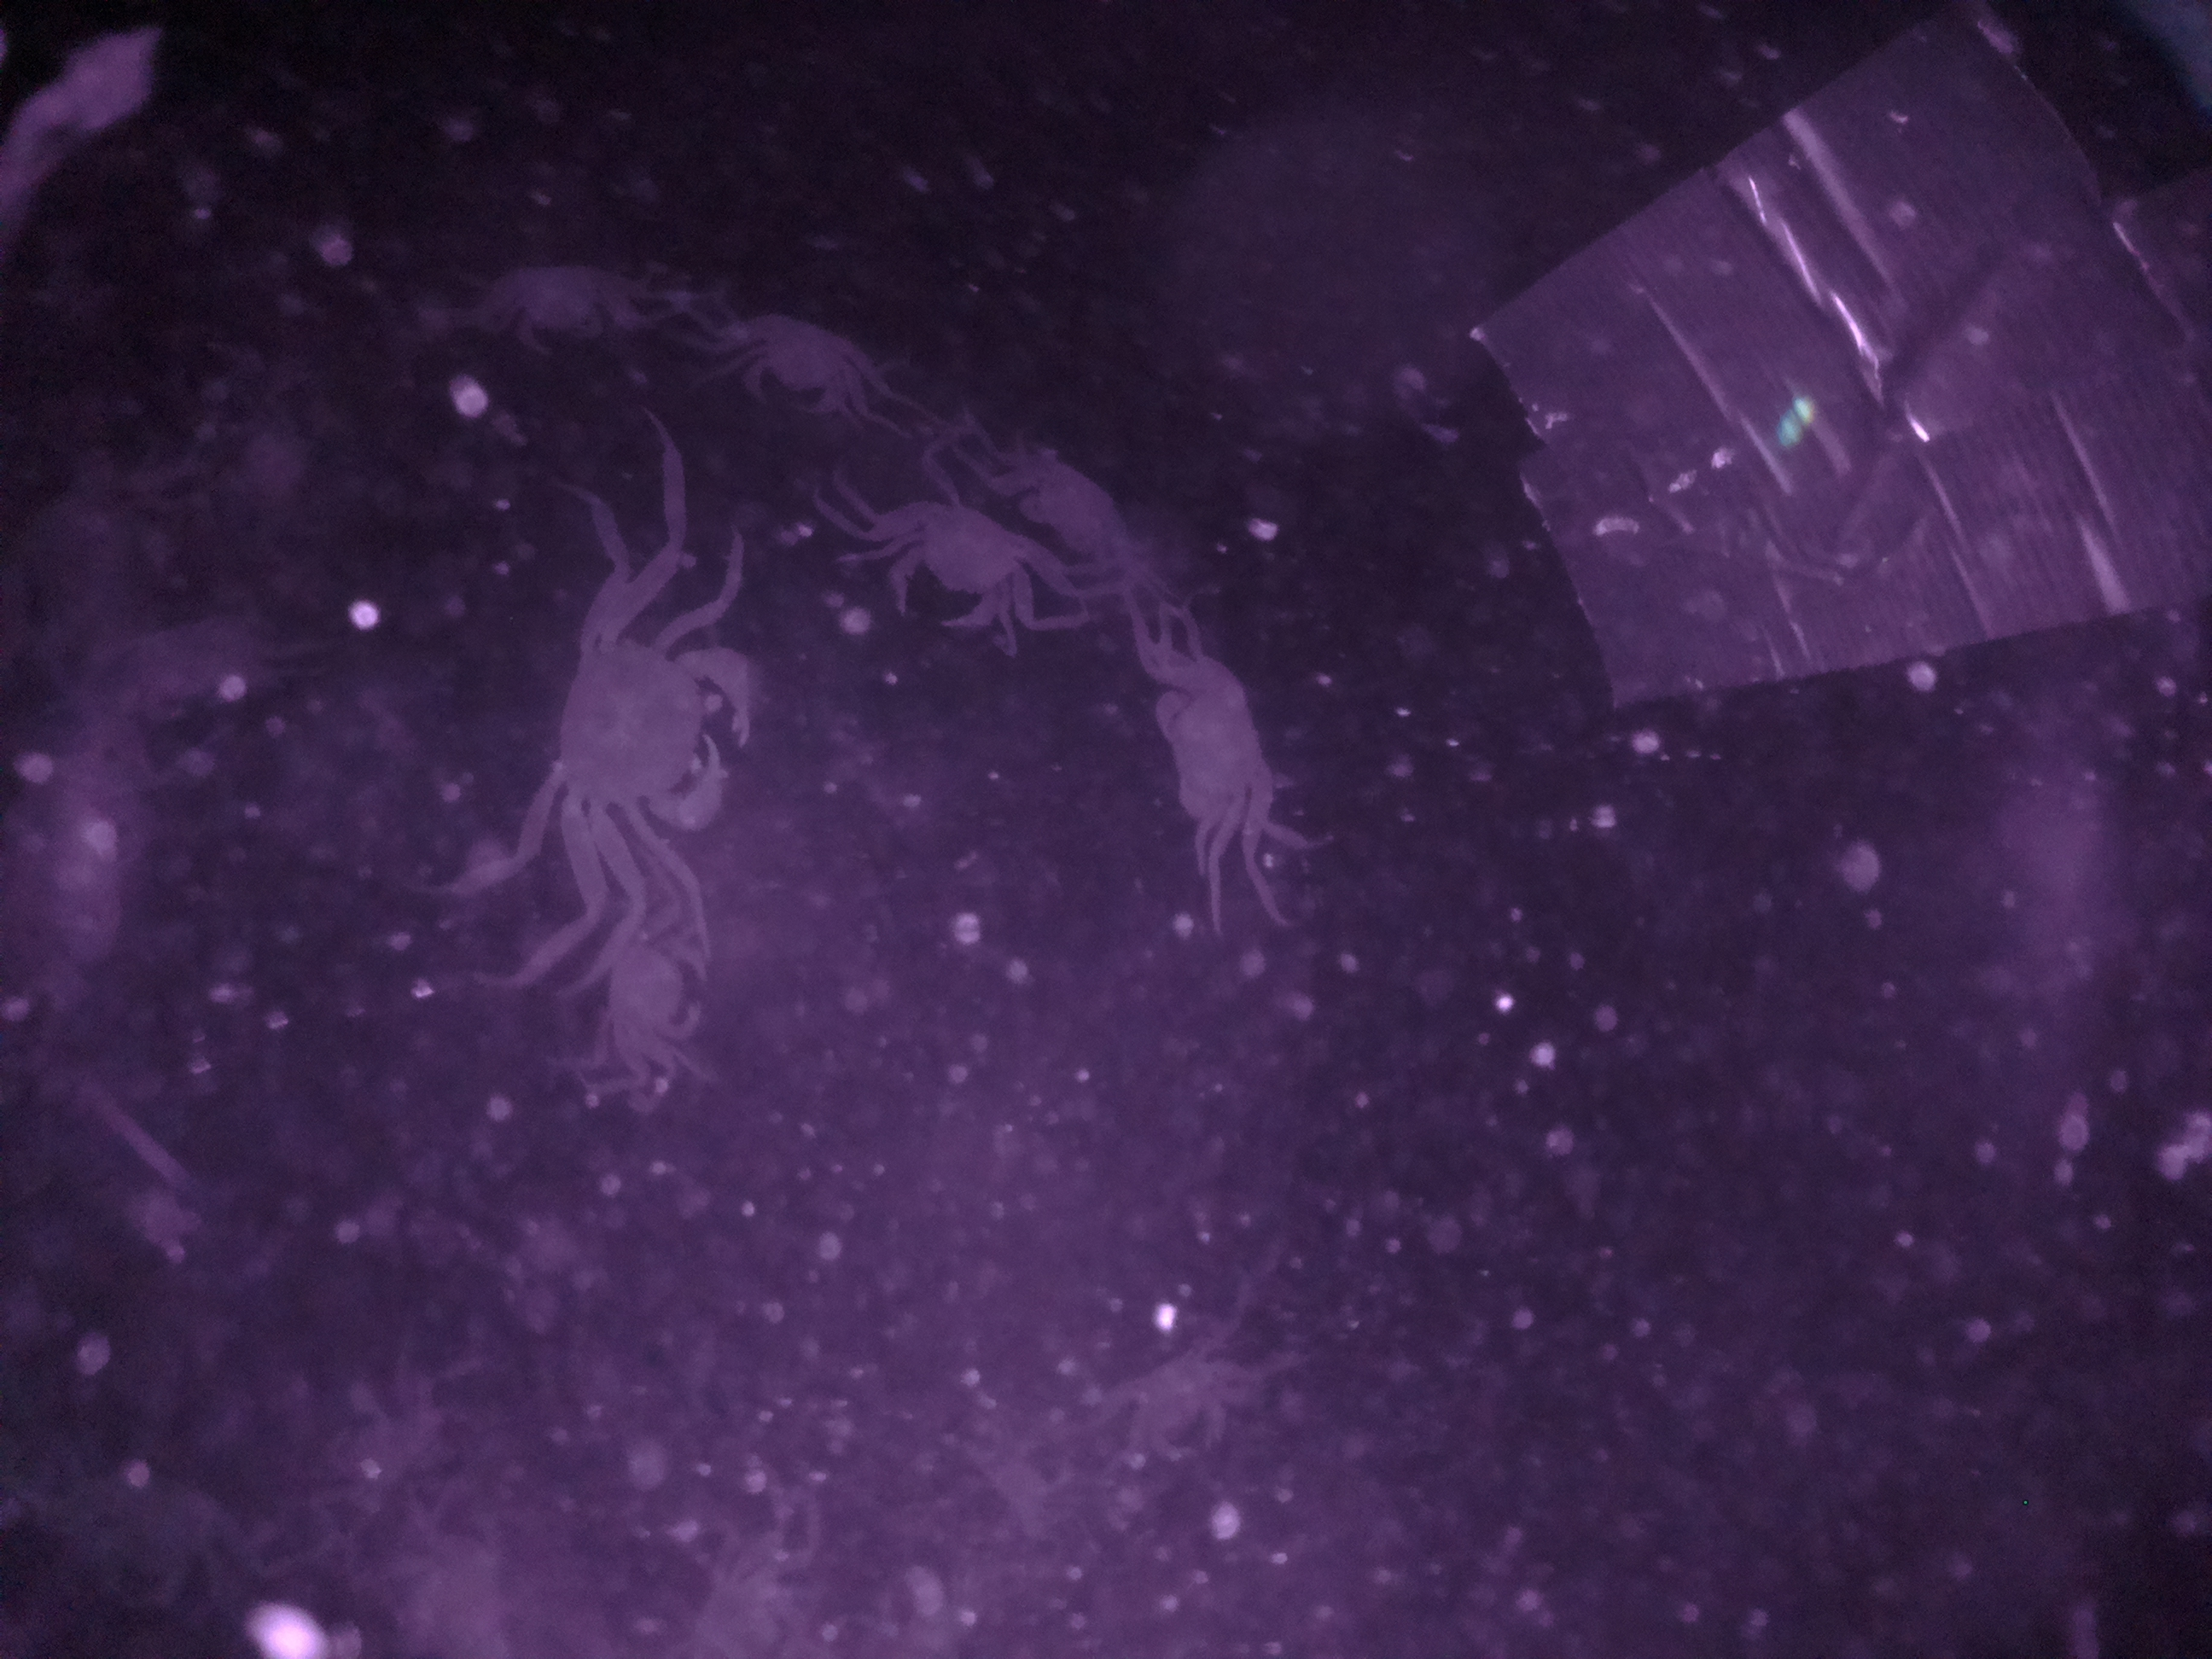Crab: (517, 596, 772, 871), (1143, 655, 1292, 843), (878, 491, 1061, 633), (589, 906, 719, 1080), (719, 303, 888, 427)
